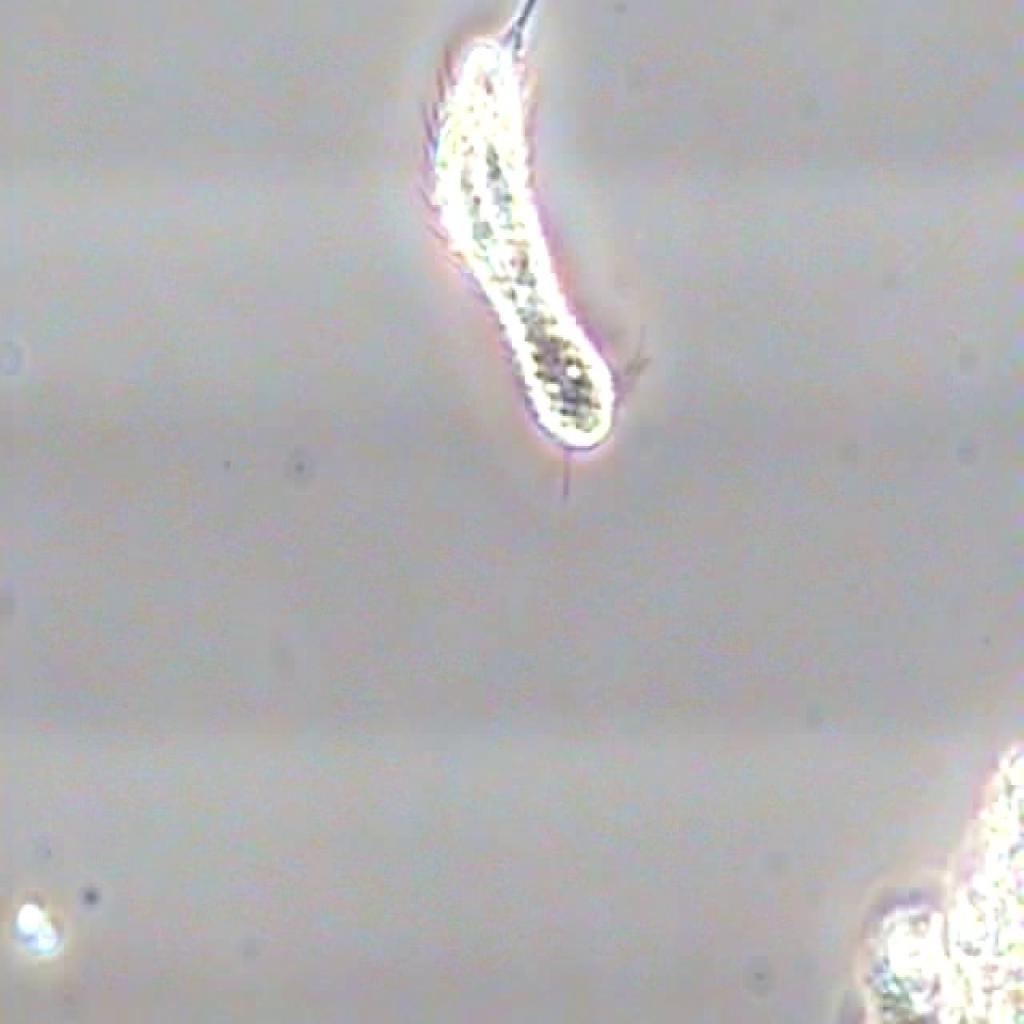Chaetonotus: (392, 0, 642, 476)
